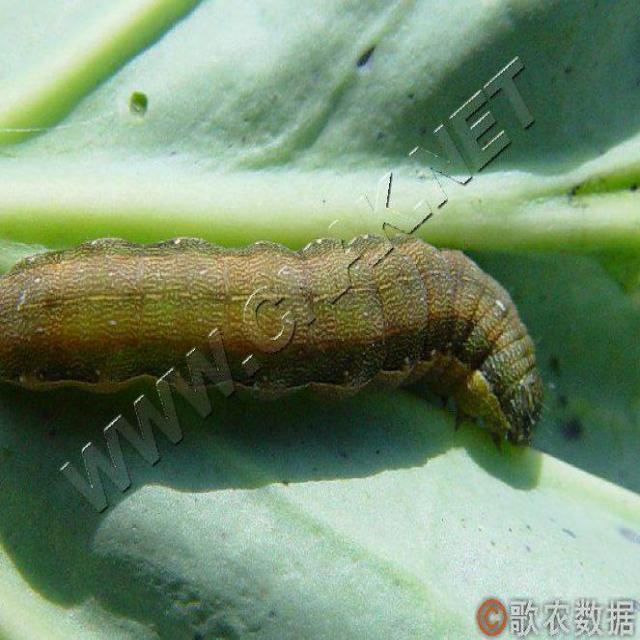BeetArmyWorm-Larva-: (2, 230, 553, 452)
